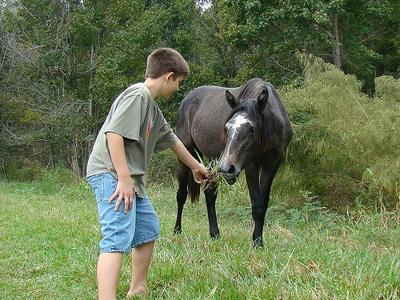person: (86, 46, 214, 295)
